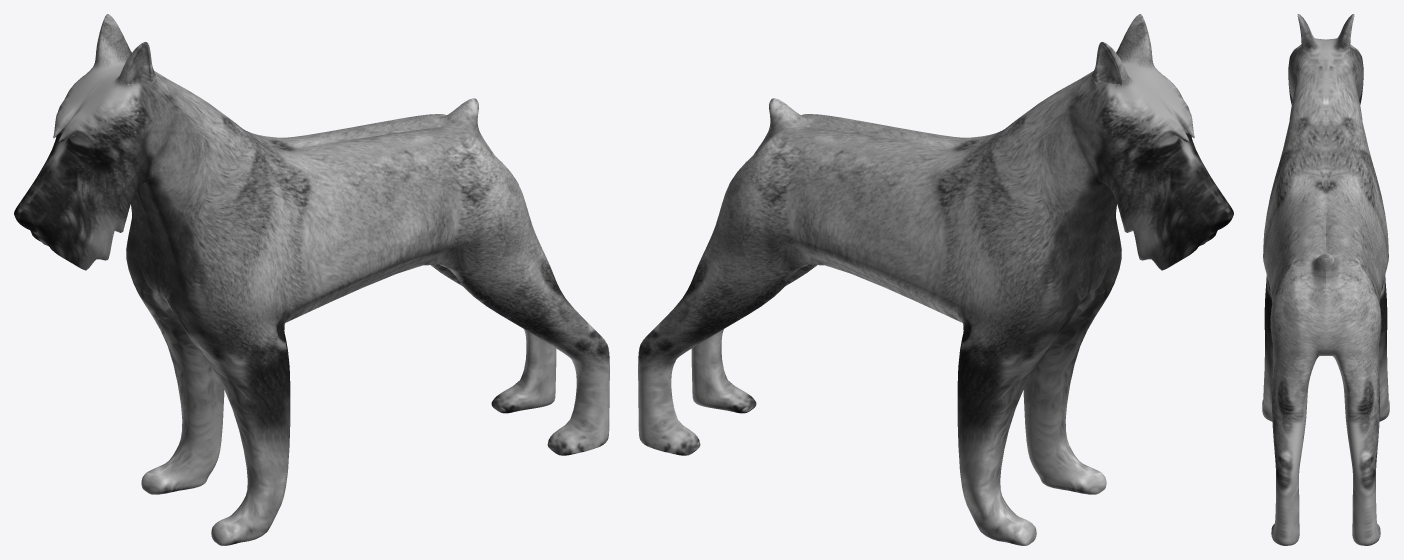
File: Moustache.fbx
3 views of the same model, side by side, from view 1: azimuth 30°, elevation 25°; view 2: azimuth 150°, elevation 25°; view 3: azimuth 270°, elevation 25° (orthographic). The views are drawn at different scales.
Visible parts, largest first — view 1: Dog; view 2: Dog; view 3: Dog.
Part boxes in pixels (x1=…): Dog: x1=14, y1=14, x2=609, y2=545; Dog: x1=638, y1=14, x2=1233, y2=545; Dog: x1=1262, y1=14, x2=1389, y2=545.
Bounding box in the file's own units: 1113 × 947 × 294.
Materials: 1 (1 with a texture image).
